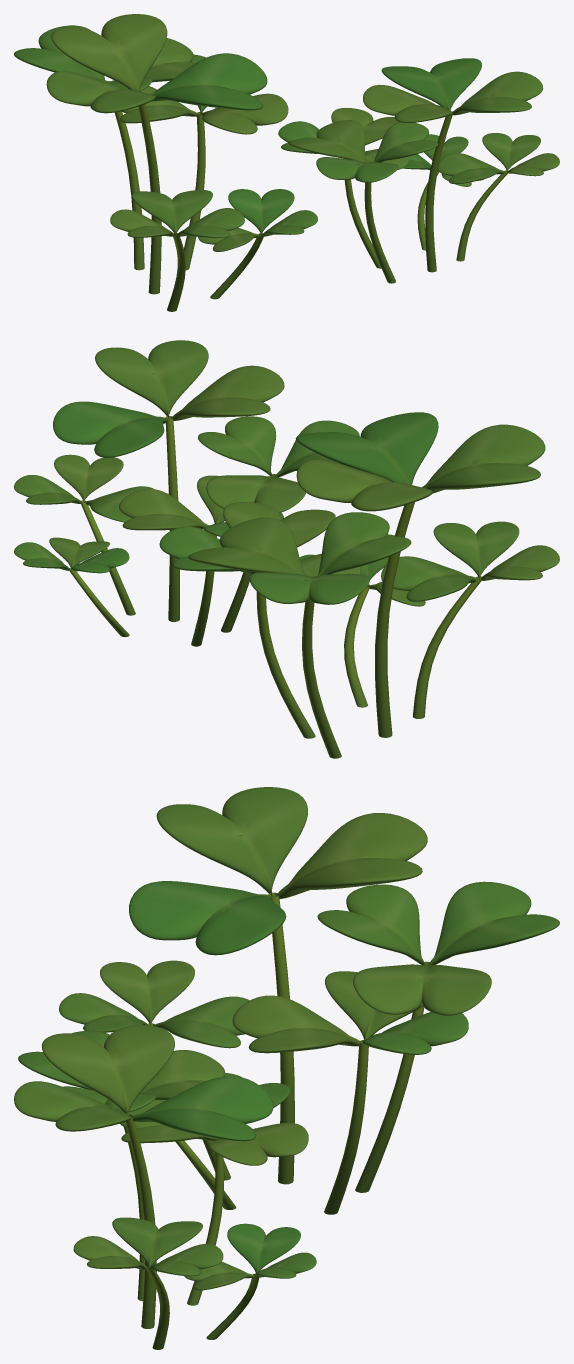
File: SM_Painted_Clover.fbx
3 renders of one model, top to bottom at view 1: azimuth 30°, elevation 25°; view 2: azimuth 150°, elevation 25°; view 3: azimuth 270°, elevation 25°, orthographic. The views are drawn at different scales.
Visible parts, largest first — view 1: SM_Painted_Clover; view 2: SM_Painted_Clover; view 3: SM_Painted_Clover.
Boxes of the visible parts, x1,y1,x2,y2 form: SM_Painted_Clover: [14, 14, 559, 311]; SM_Painted_Clover: [14, 340, 559, 758]; SM_Painted_Clover: [14, 787, 559, 1349].
Size of the model in its own units: 60.52 by 30.24 by 45.92.
